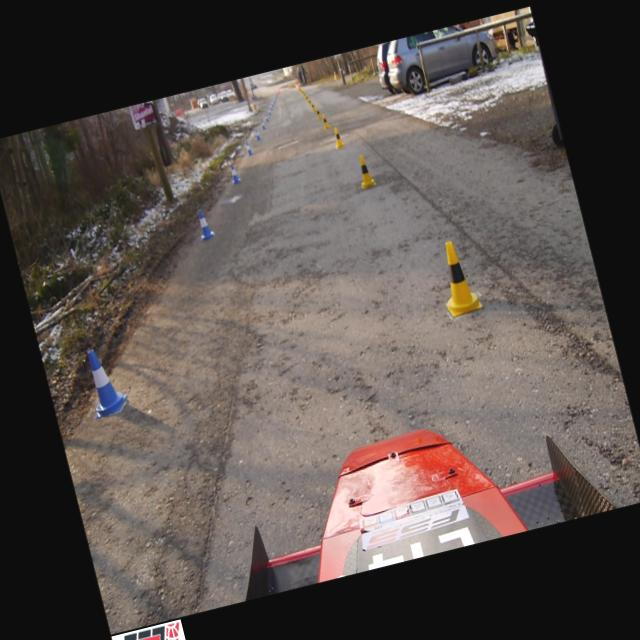blue_cone: (80, 344, 130, 418), (193, 207, 216, 240), (228, 163, 241, 184), (244, 140, 253, 156), (254, 128, 261, 140), (260, 118, 266, 130), (264, 114, 268, 122), (268, 108, 270, 115), (270, 104, 272, 110), (271, 102, 273, 105)
yellow_cone: (431, 236, 483, 318), (354, 153, 376, 188), (331, 126, 344, 148), (320, 113, 330, 129), (315, 107, 322, 119), (310, 102, 316, 111), (308, 98, 312, 105), (305, 94, 308, 100), (303, 92, 306, 97)
